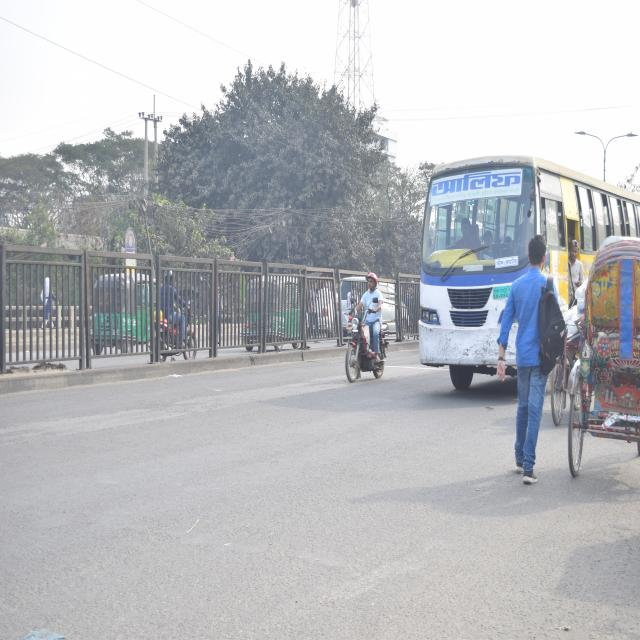bus: (417, 154, 595, 392)
motorbike: (336, 289, 392, 392)
